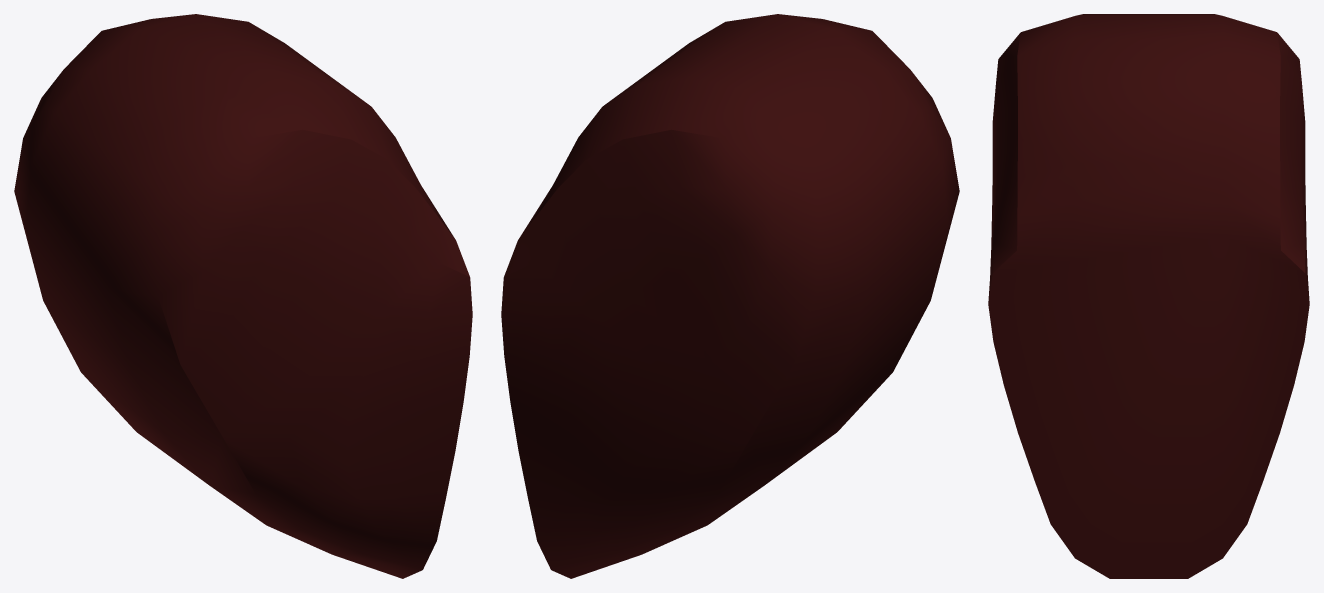
Rendered from Heart_Half.fbx.
The picture shows the model from 3 angles, left to right: view 1: azimuth 30°, elevation 25°; view 2: azimuth 150°, elevation 25°; view 3: azimuth 270°, elevation 25°; orthographic projection. The views are drawn at different scales.
Parts seen in each view (by area): view 1: Heart_Half; view 2: Heart_Half; view 3: Heart_Half.
Boxes of the visible parts, left/top/right/bottom form: Heart_Half: left=14, top=14, right=472, bottom=578; Heart_Half: left=501, top=14, right=959, bottom=578; Heart_Half: left=988, top=14, right=1309, bottom=578.
Bounding box in the file's own units: 74.01 × 124 × 75.42.
